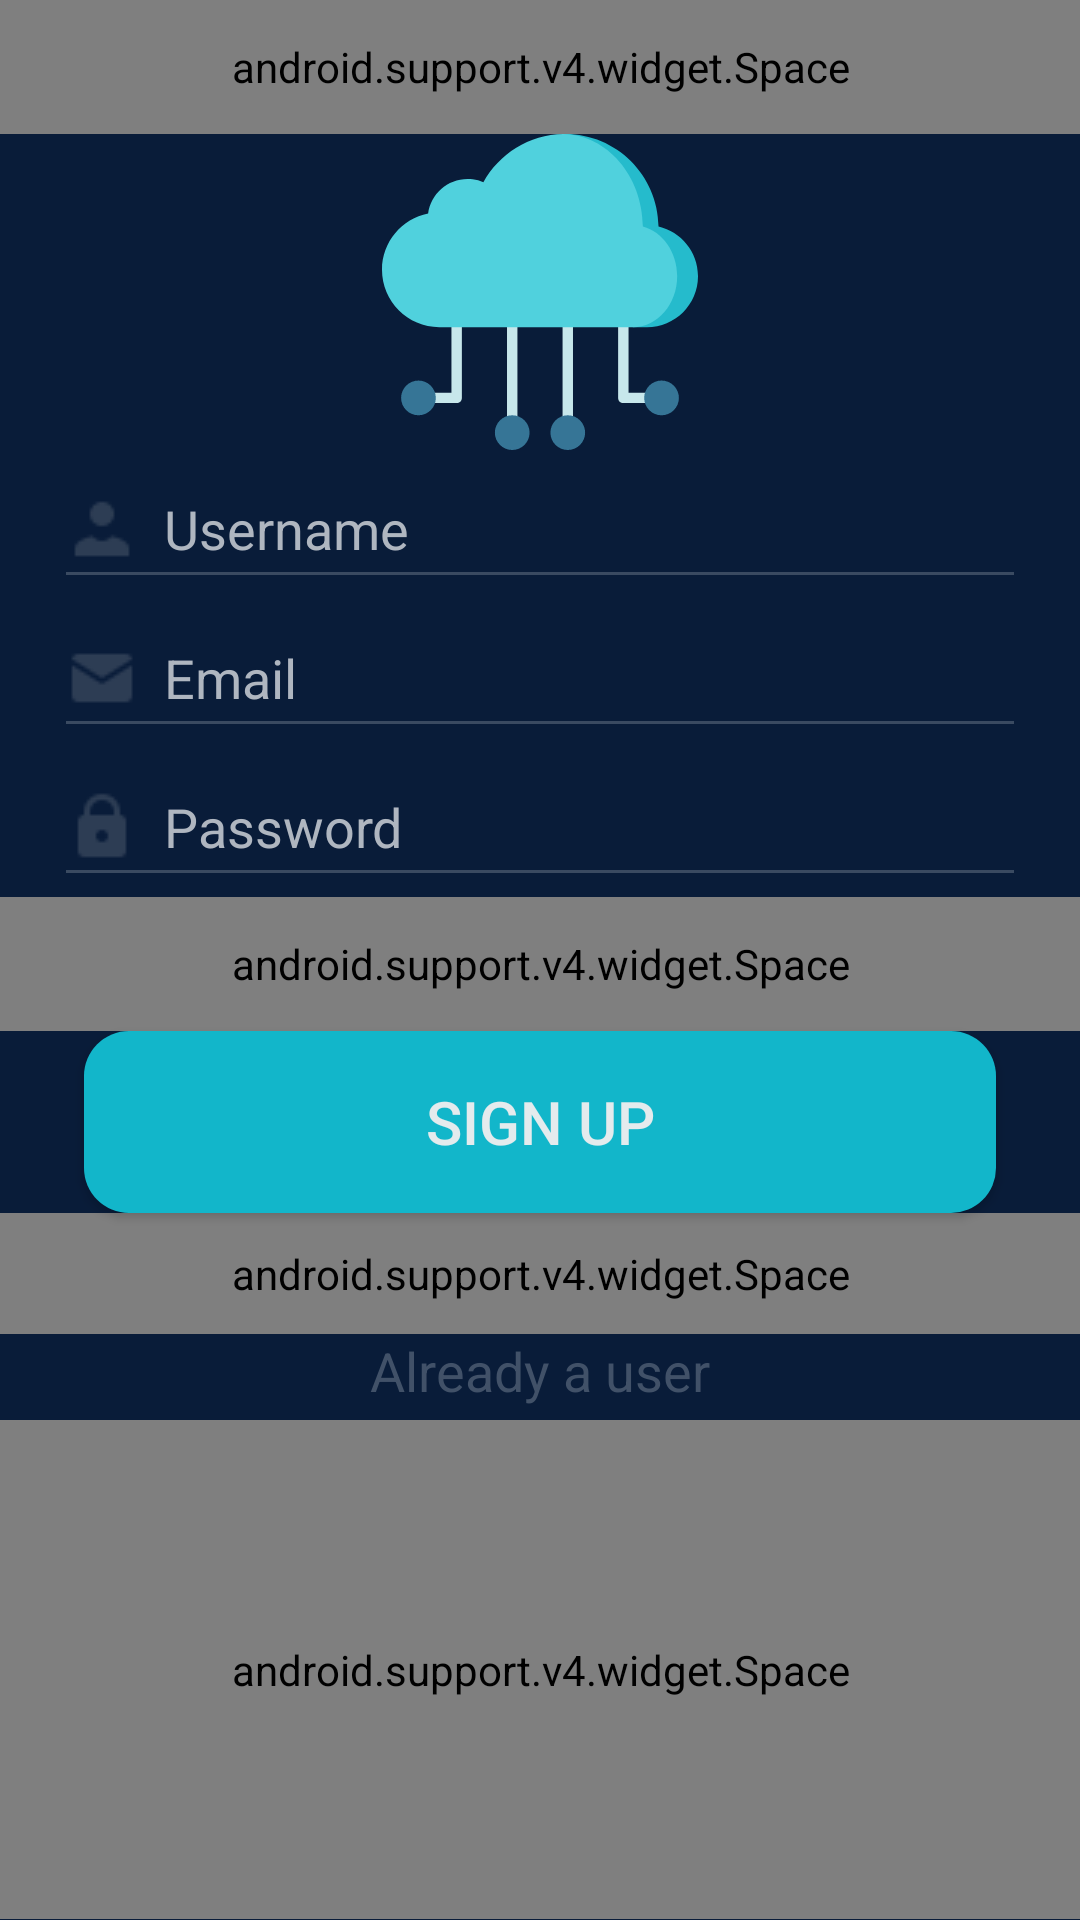

Screen size 1080w x 1920h. Icon name, then its box in pixels as [x1, y1, x2, y2]:
cloud computing: [382, 134, 698, 450]
